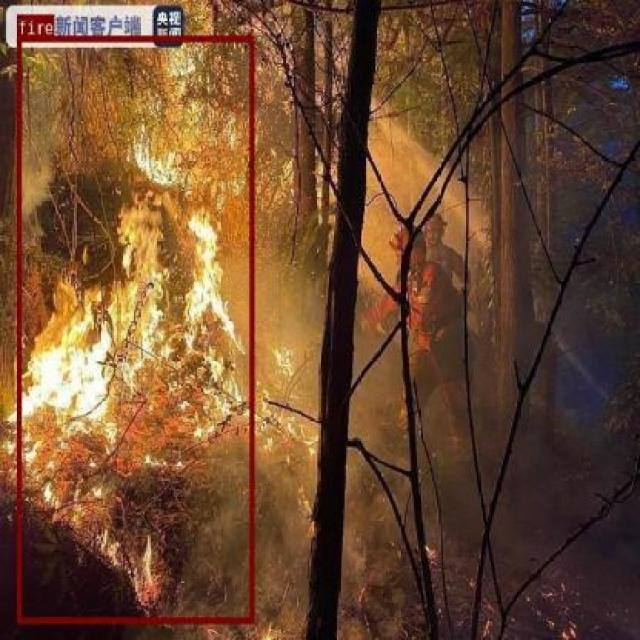Fire: (16, 35, 253, 623)
